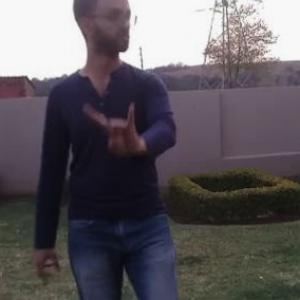takeoff-hand: (79, 90, 148, 158)
